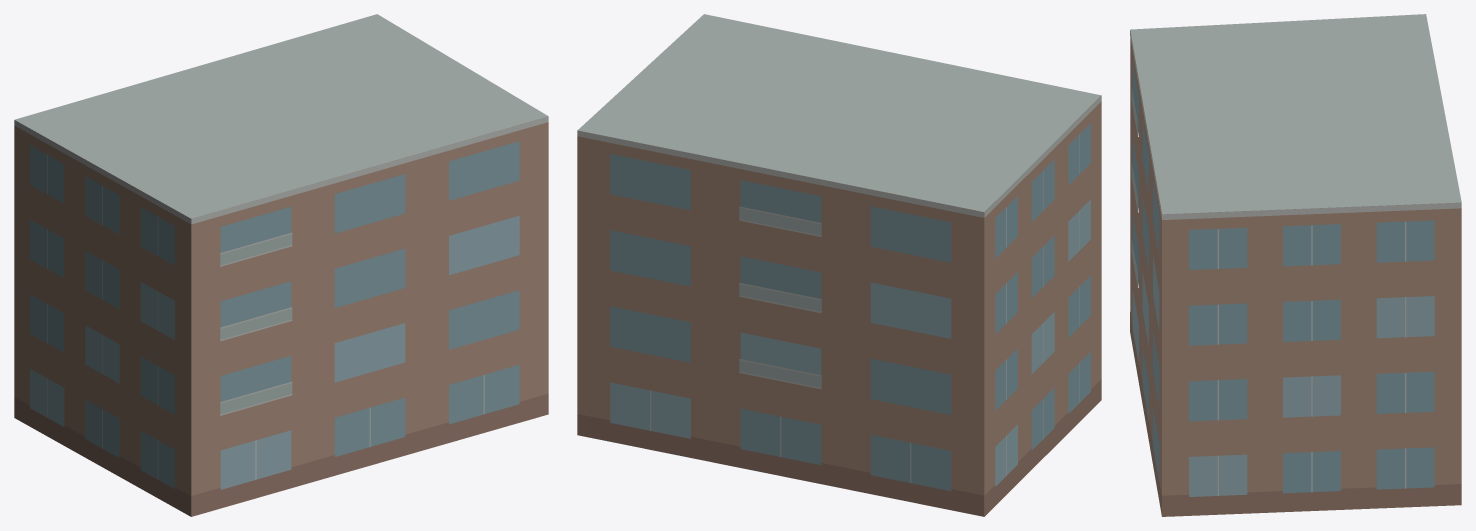
The model's file is survey-upis-32737189.glb.
3 views of the same model, side by side, from view 1: azimuth 30°, elevation 25°; view 2: azimuth 150°, elevation 25°; view 3: azimuth 270°, elevation 25° (orthographic). The views are drawn at different scales.
Parts seen in each view (by area): view 1: survey-upis-32737189.tmp; view 2: survey-upis-32737189.tmp; view 3: survey-upis-32737189.tmp.
Boxes of the visible parts, x1,y1,x2,y2 form: survey-upis-32737189.tmp: (14,14,548,516); survey-upis-32737189.tmp: (577,14,1101,516); survey-upis-32737189.tmp: (1130,14,1461,516).
Size of the model in its own units: 18.04 by 12.7 by 12.62.
